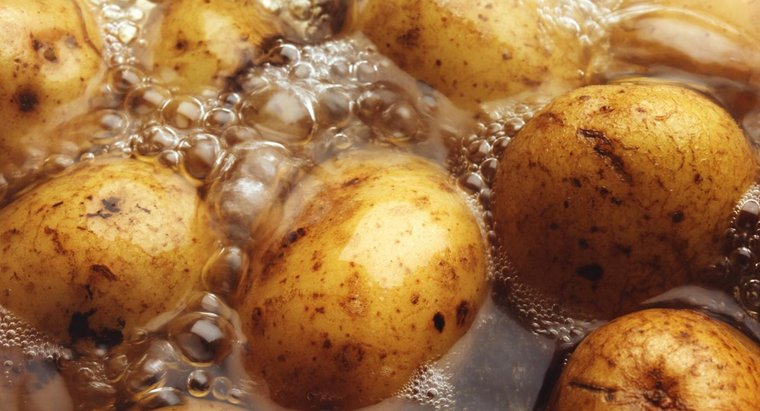boiled potatoes: (501, 83, 746, 301), (263, 168, 481, 394), (6, 152, 225, 336), (556, 299, 749, 411), (354, 4, 572, 87), (1, 1, 126, 133), (176, 1, 294, 140)
